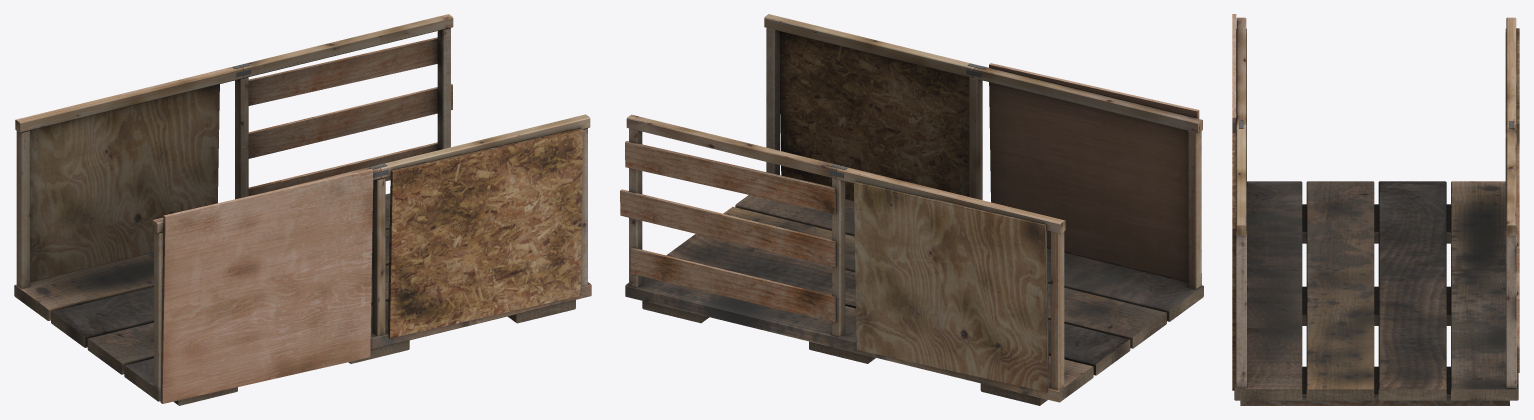
Rendered from wood_platform.FBX.
The picture shows the model from 3 angles, left to right: view 1: azimuth 30°, elevation 25°; view 2: azimuth 150°, elevation 25°; view 3: azimuth 270°, elevation 25°; orthographic projection.
Visible parts, largest first — view 1: wood_walkway; view 2: wood_walkway; view 3: wood_walkway.
Part boxes in pixels (x1,y1,x2,y2): wood_walkway: [14, 14, 591, 405]; wood_walkway: [620, 14, 1203, 405]; wood_walkway: [1232, 14, 1519, 405].
Size of the model in its own units: 4.58 by 1.96 by 2.65.
Materials: 1 (1 with a texture image).
